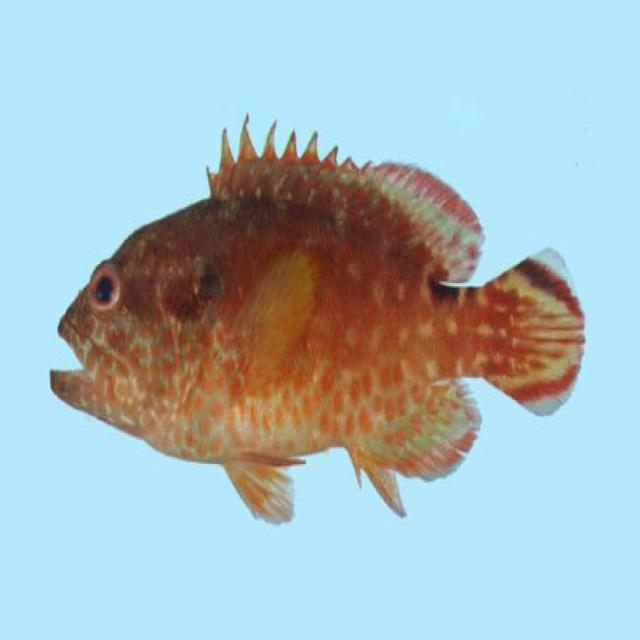ikan: (48, 111, 586, 526)
